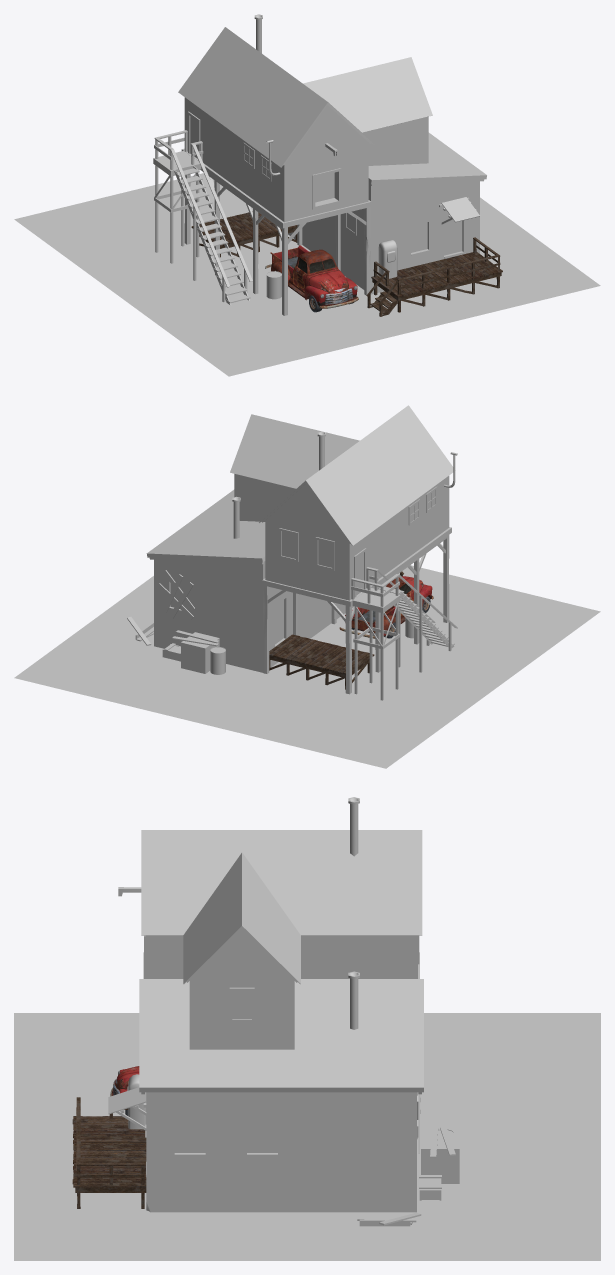
Rendered from BarnFBX.fbx.
The picture shows the model from 3 angles, top to bottom: view 1: azimuth 30°, elevation 25°; view 2: azimuth 150°, elevation 25°; view 3: azimuth 270°, elevation 25°; orthographic projection. The views are drawn at different scales.
Visible parts, largest first — view 1: polySurface65, polySurface53, polySurface52; view 2: polySurface65, polySurface53, polySurface52, polySurface69; view 3: polySurface65, polySurface53.
Boxes of the visible parts, box(x1,y1,x2,y2) form: polySurface65: box(153, 14, 502, 316); polySurface53: box(14, 173, 600, 376); polySurface52: box(265, 245, 358, 312); polySurface65: box(127, 405, 457, 700); polySurface53: box(14, 565, 600, 768); polySurface52: box(339, 576, 433, 638); polySurface69: box(408, 486, 437, 525); polySurface65: box(72, 797, 459, 1226); polySurface53: box(14, 1013, 600, 1260).
Bounding box in the file's own units: 1902 × 1130 × 1902.
